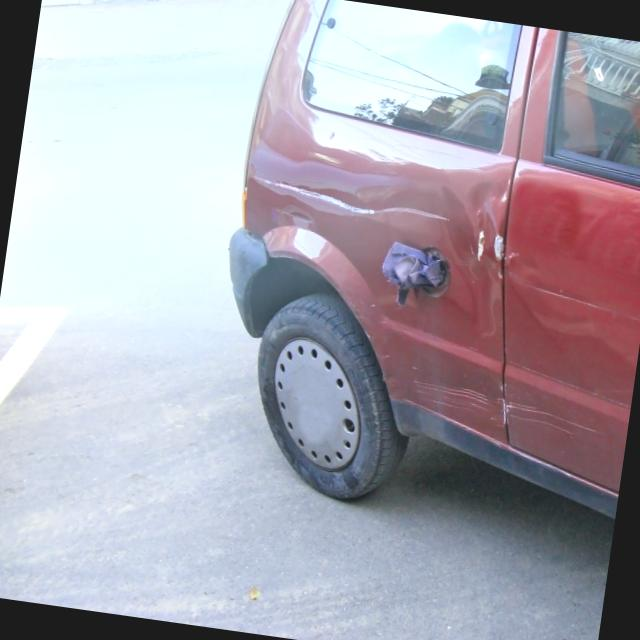Cabossage: (436, 174, 515, 322)
Rayure: (408, 364, 609, 459), (253, 169, 471, 247)
